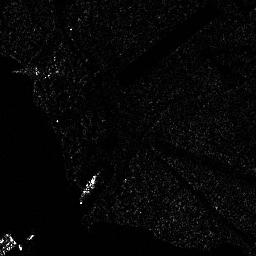ship: (78, 173, 97, 207)
